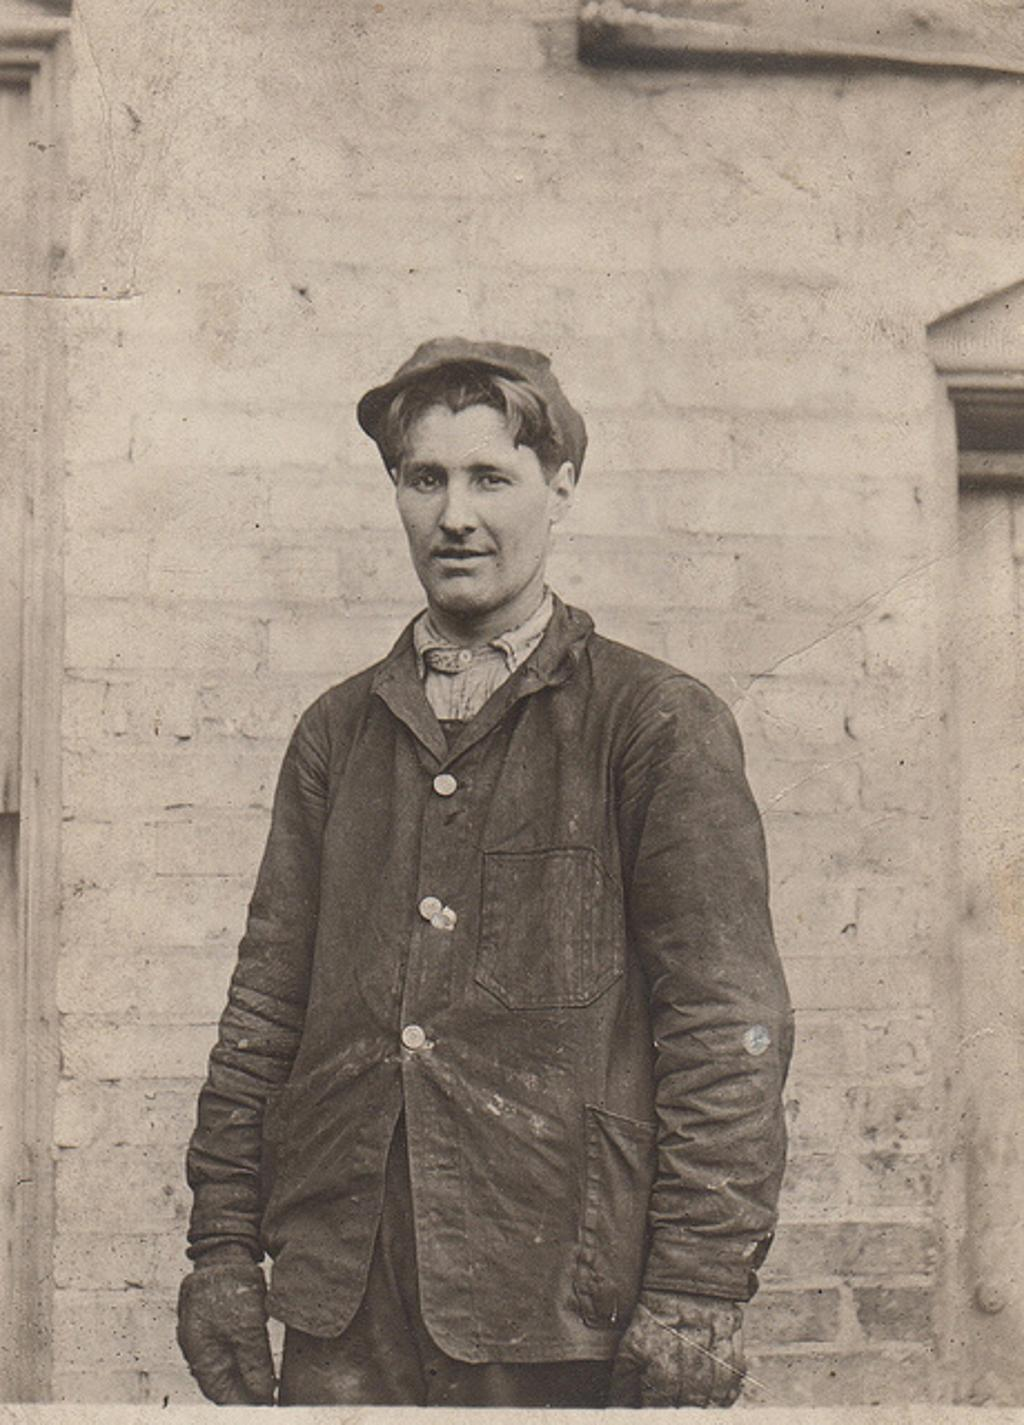face: (401, 401, 543, 593)
